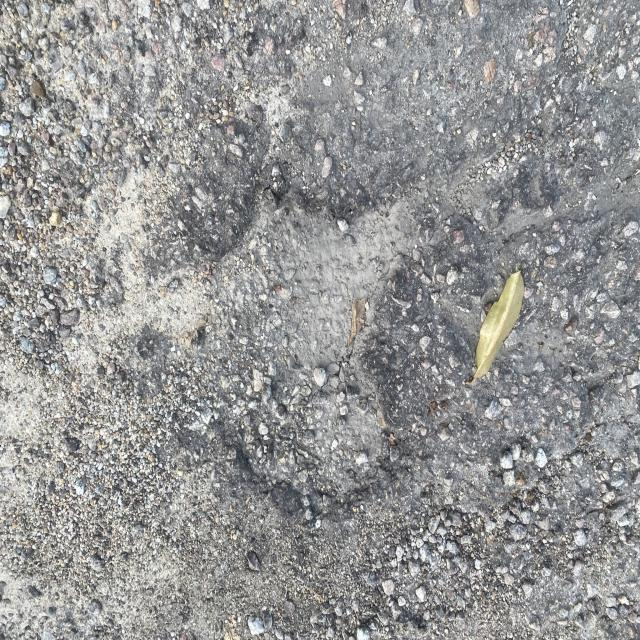pothole: (156, 142, 432, 562)
